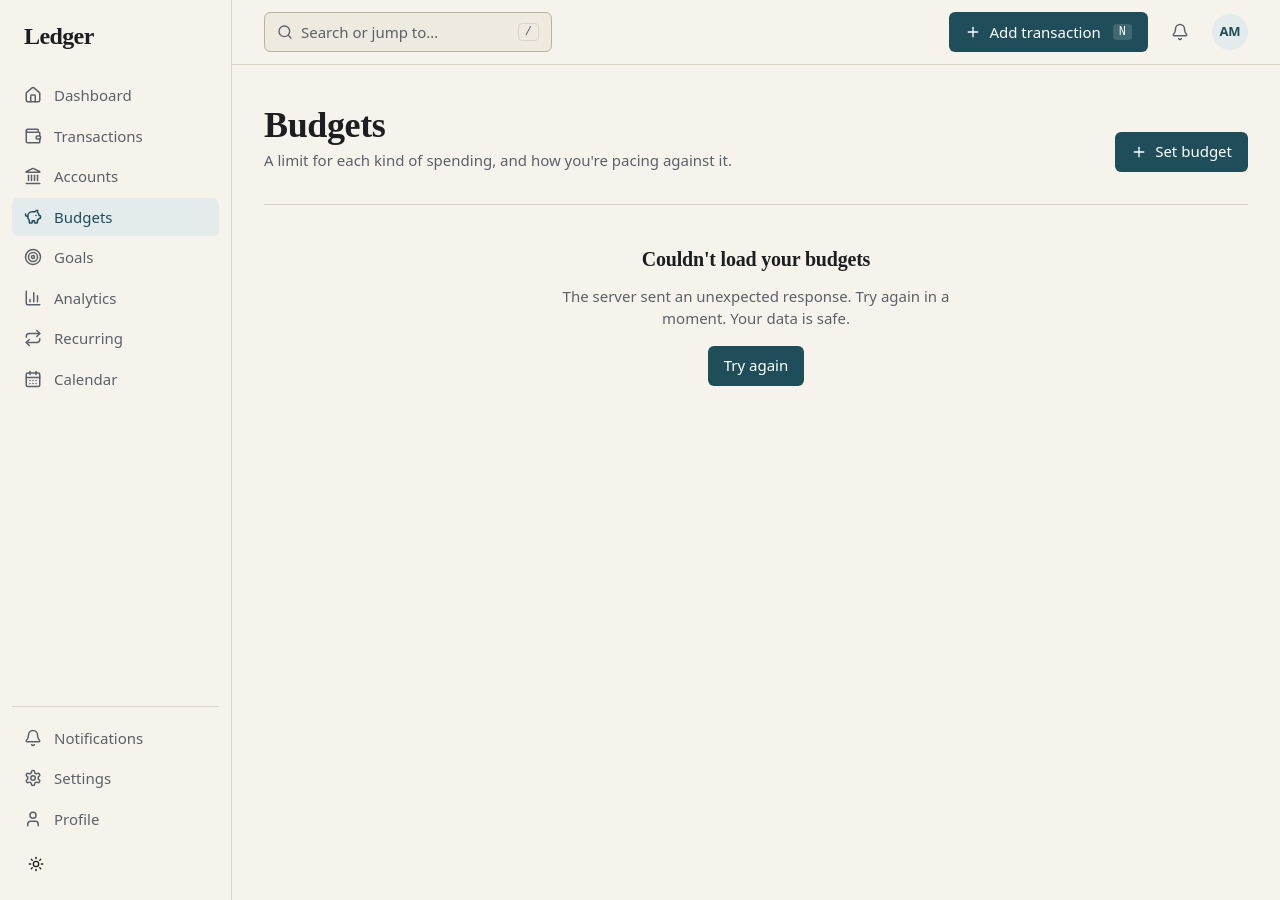
Test: budgets page › retries after a load failure
The image size is (1280, 900).
Check: the heading "Couldn't load your budgets" is shown, box [642, 244, 870, 272]
Click the button "Try again" at (756, 366), box [708, 346, 804, 386]
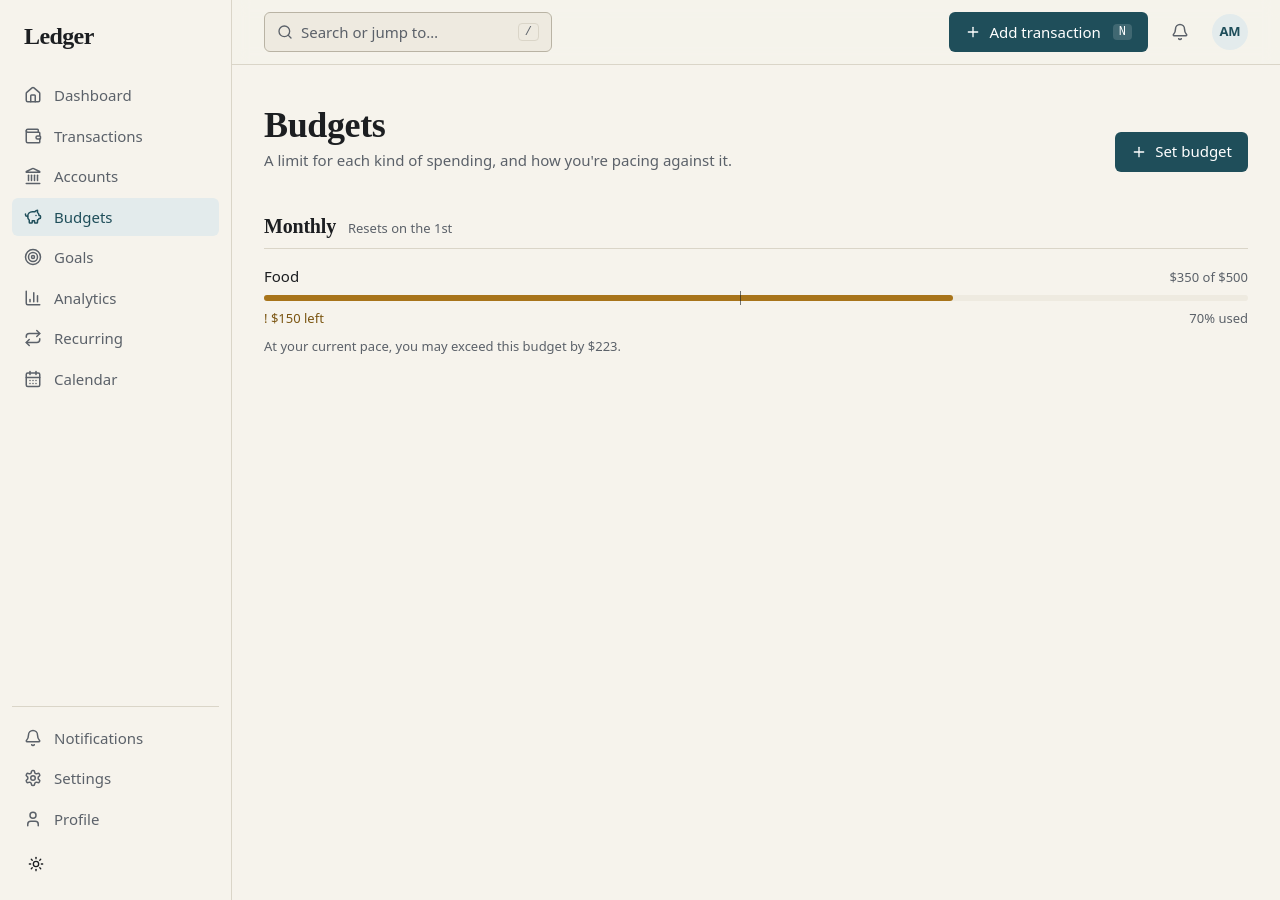
Check: the button with aria-label "Edit Food budget" is shown, box [252, 248, 1260, 372]
